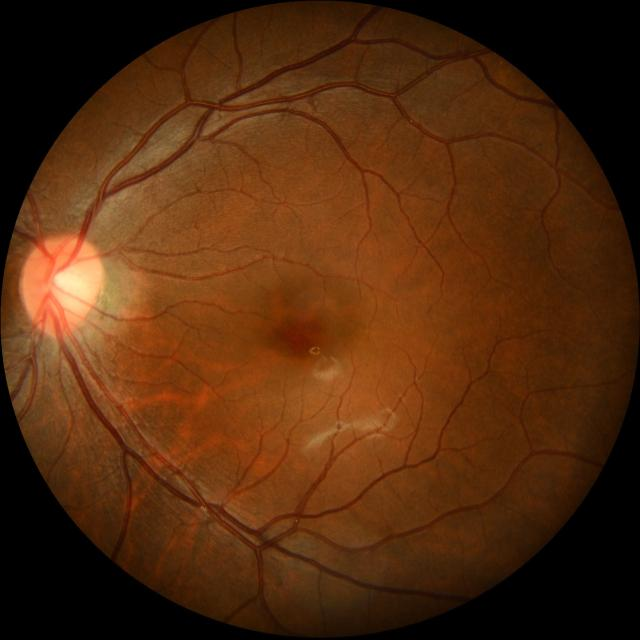OC: (49, 265, 86, 308)
OD: (20, 236, 101, 332)
